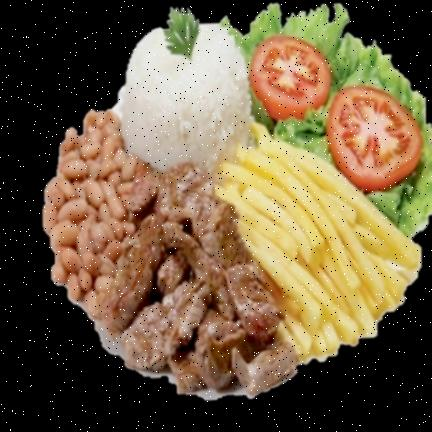beans: (44, 110, 137, 310)
meat: (101, 163, 296, 391)
potato: (216, 123, 420, 357)
rice: (121, 10, 251, 180)
salad: (223, 4, 432, 237)
tomato: (326, 87, 421, 191), (250, 35, 330, 120)
